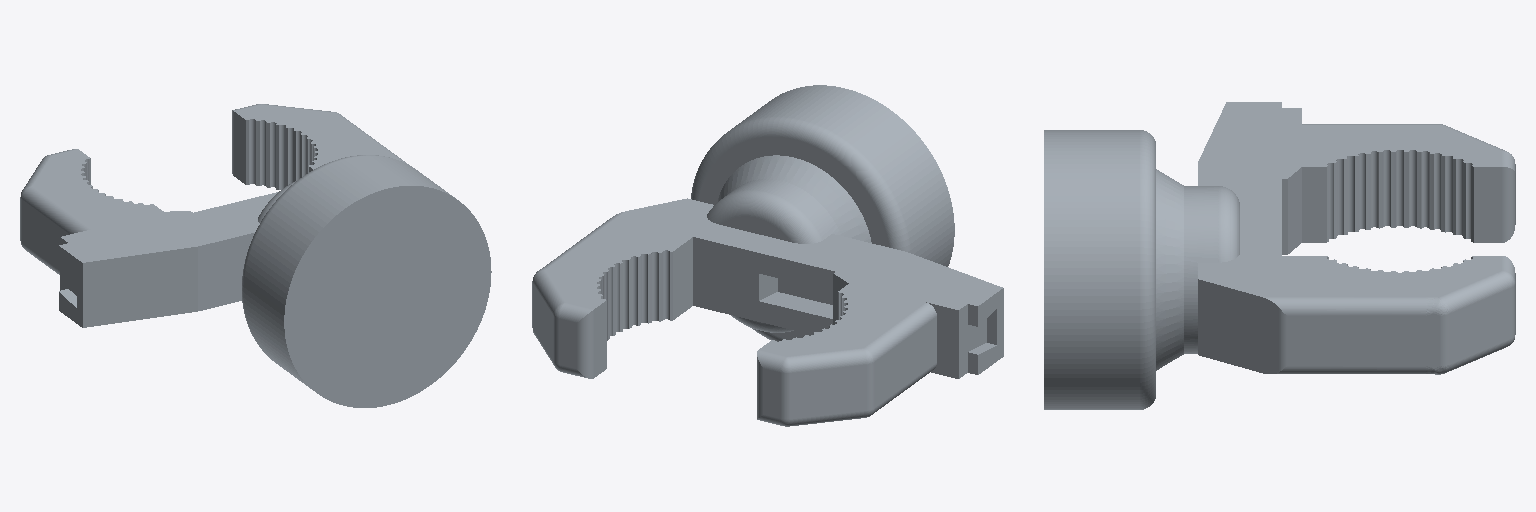
URDF robot description (my_robot_arm):
<?xml version="1.0" ?>
<robot name="my_robot_arm">
  <!--Generated by CROSS, a ROS Workbench for FreeCAD (https://github.com/galou/freecad.cross)-->
  <link name="base_link">
    <visual>
      <!--base_link_part/Body.-->
      <origin rpy="0.0 -0.0 0.0" xyz="0.0 0.0 0.0"/>
      <geometry>
        <mesh filename="package://my_robot_arm/meshes/gripper_base_link_body.dae"/>
      </geometry>
    </visual>
    <collision>
      <!--base_link_part/Body.-->
      <origin rpy="0.0 -0.0 0.0" xyz="0.0 0.0 0.0"/>
      <geometry>
        <mesh filename="package://my_robot_arm/meshes/gripper_base_link_body.dae"/>
      </geometry>
    </collision>
    <inertial>
      <mass value="0.0"/>
      <origin rpy="0.0 -0.0 0.0" xyz="0.0 0.0 0.0"/>
      <inertia ixx="0.0" ixy="0.0" ixz="0.0" iyy="0.0" iyz="0.0" izz="0.0"/>
    </inertial>
  </link>
  <link name="finger_link">
    <visual>
      <!--finger_part/Body001.-->
      <origin rpy="0.0 -0.0 0.0" xyz="0.0 0.0 0.0"/>
      <geometry>
        <mesh filename="package://my_robot_arm/meshes/gripper_finger_body.dae"/>
      </geometry>
    </visual>
    <collision>
      <!--finger_part/Body001.-->
      <origin rpy="0.0 -0.0 0.0" xyz="0.0 0.0 0.0"/>
      <geometry>
        <mesh filename="package://my_robot_arm/meshes/gripper_finger_body.dae"/>
      </geometry>
    </collision>
    <inertial>
      <mass value="0.0"/>
      <origin rpy="0.0 -0.0 0.0" xyz="0.0 0.0 0.0"/>
      <inertia ixx="0.0" ixy="0.0" ixz="0.0" iyy="0.0" iyz="0.0" izz="0.0"/>
    </inertial>
  </link>
  <joint name="finger_joint" type="prismatic">
    <parent link="base_link"/>
    <child link="finger_link"/>
    <origin rpy="0.0 -0.0 0.0" xyz="-0.035 0.0 0.0"/>
    <axis xyz="1 0 0 "/>
    <limit effort="1000.0" lower="-0.005" upper="0.035" velocity="0.1"/>
  </joint>
</robot>

--- Render facts (derived) ---
The picture shows the robot from 3 angles, left to right: view 1: azimuth 30°, elevation 25°; view 2: azimuth 150°, elevation 25°; view 3: azimuth 270°, elevation 25°; orthographic projection.
Model my_robot_arm with 2 links and 1 joints (1 prismatic), rooted at base_link, posed every joint at zero.
Visible links, largest first — view 1: base_link, finger_link; view 2: base_link, finger_link; view 3: base_link, finger_link.
Boxes of the visible links, <box> form: base_link: <box>59,104,491,407</box>; finger_link: <box>20,149,192,295</box>; base_link: <box>532,85,1003,378</box>; finger_link: <box>757,272,986,426</box>; base_link: <box>1044,102,1515,409</box>; finger_link: <box>1282,108,1515,254</box>.
Size in the robot's own frame: 0.1698 by 0.1682 by 0.1 metres.
Meshes: 2 distinct files referenced, 2 mesh visuals loaded (2 Collada DAE).
